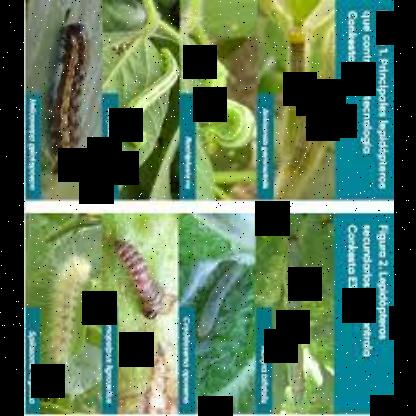oruga: (115, 42, 179, 146), (106, 238, 174, 328), (50, 22, 86, 180), (278, 232, 310, 408), (198, 56, 252, 154), (196, 262, 246, 338)
